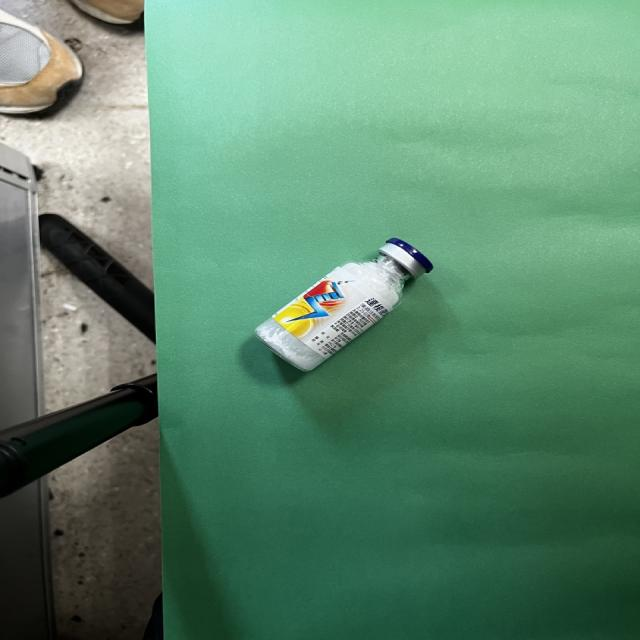Vials: (253, 238, 433, 372)
